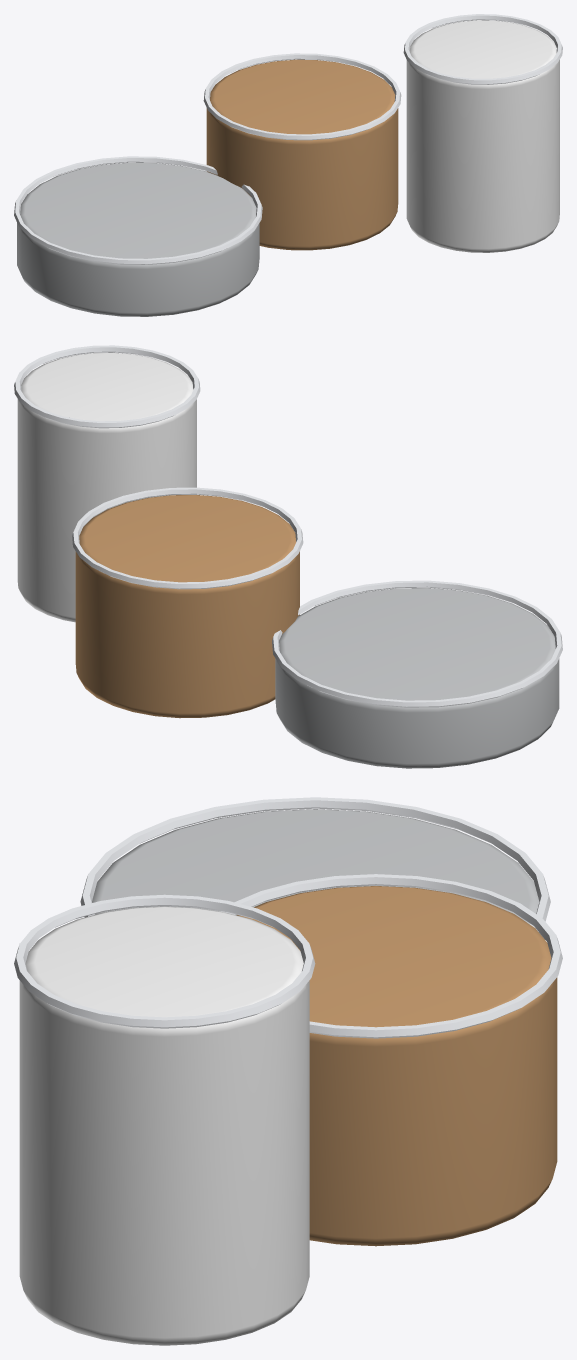
The model's file is posing_blocks_set.glb.
The picture shows the model from 3 angles, top to bottom: view 1: azimuth 30°, elevation 25°; view 2: azimuth 150°, elevation 25°; view 3: azimuth 270°, elevation 25°; orthographic projection. The views are drawn at different scales.
Parts seen in each view (by area): view 1: posing_blocks_set; view 2: posing_blocks_set; view 3: posing_blocks_set.
Part boxes in pixels (x1,y1,x2,y2): posing_blocks_set: [14, 14, 562, 316]; posing_blocks_set: [14, 345, 562, 768]; posing_blocks_set: [14, 797, 562, 1345].
Bounding box in the file's own units: 1.74 × 0.6081 × 0.909.
